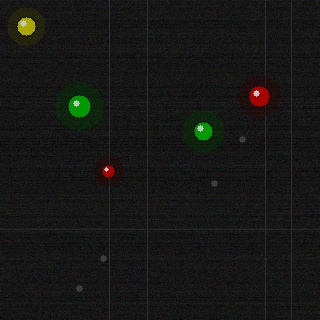green_normal: (66, 93, 92, 119), (192, 120, 214, 142)
red_fault: (247, 84, 271, 108), (100, 163, 116, 179)
yellow_warning: (15, 15, 37, 37)
